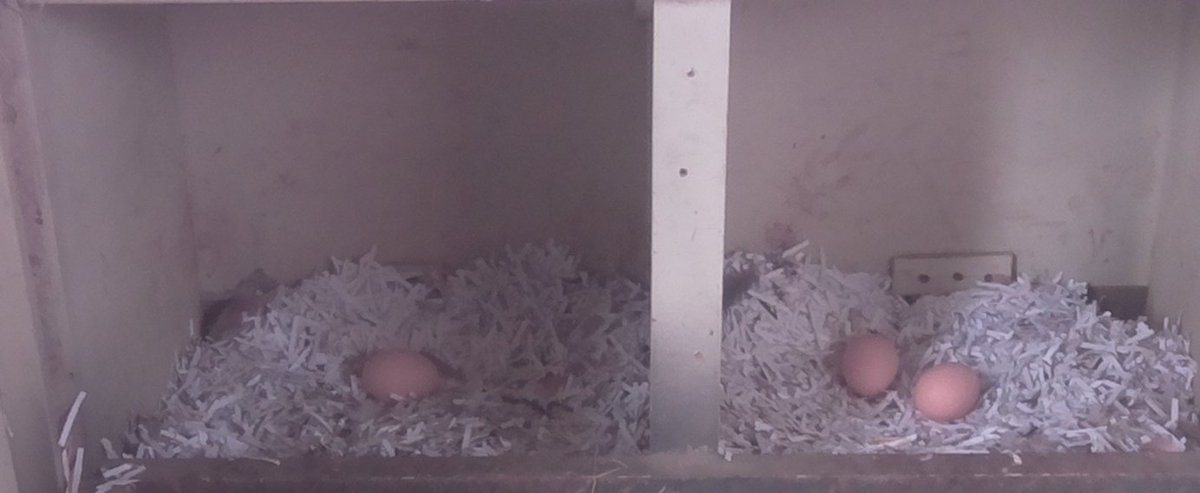egg: (357, 340, 442, 402), (912, 360, 984, 423), (839, 333, 903, 400)
